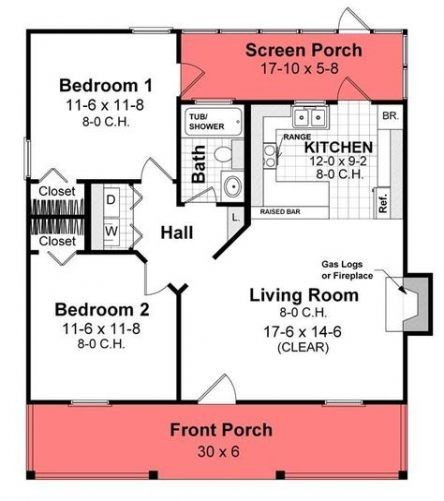door: (130, 257, 178, 304), (139, 148, 174, 197), (198, 369, 241, 406), (331, 69, 370, 104), (337, 2, 372, 37), (182, 55, 206, 99), (185, 184, 221, 207)
room: (188, 228, 412, 407), (22, 31, 180, 257), (25, 245, 184, 409), (243, 93, 408, 235), (182, 90, 250, 232)
wall: (399, 96, 414, 275), (241, 97, 256, 226), (24, 178, 32, 407), (25, 23, 132, 39), (22, 26, 36, 140), (172, 94, 185, 207), (175, 294, 187, 404), (107, 396, 197, 410), (236, 398, 328, 410), (82, 185, 98, 254), (401, 329, 413, 406), (74, 245, 135, 259), (76, 176, 143, 188), (25, 395, 72, 411), (425, 272, 436, 340), (368, 95, 412, 111), (362, 397, 408, 411), (30, 213, 87, 222), (218, 196, 249, 211), (400, 328, 437, 340), (172, 28, 184, 64), (402, 269, 433, 281)
window: (68, 395, 112, 412), (129, 23, 175, 38), (23, 139, 37, 179), (326, 396, 364, 410), (195, 97, 233, 108)
